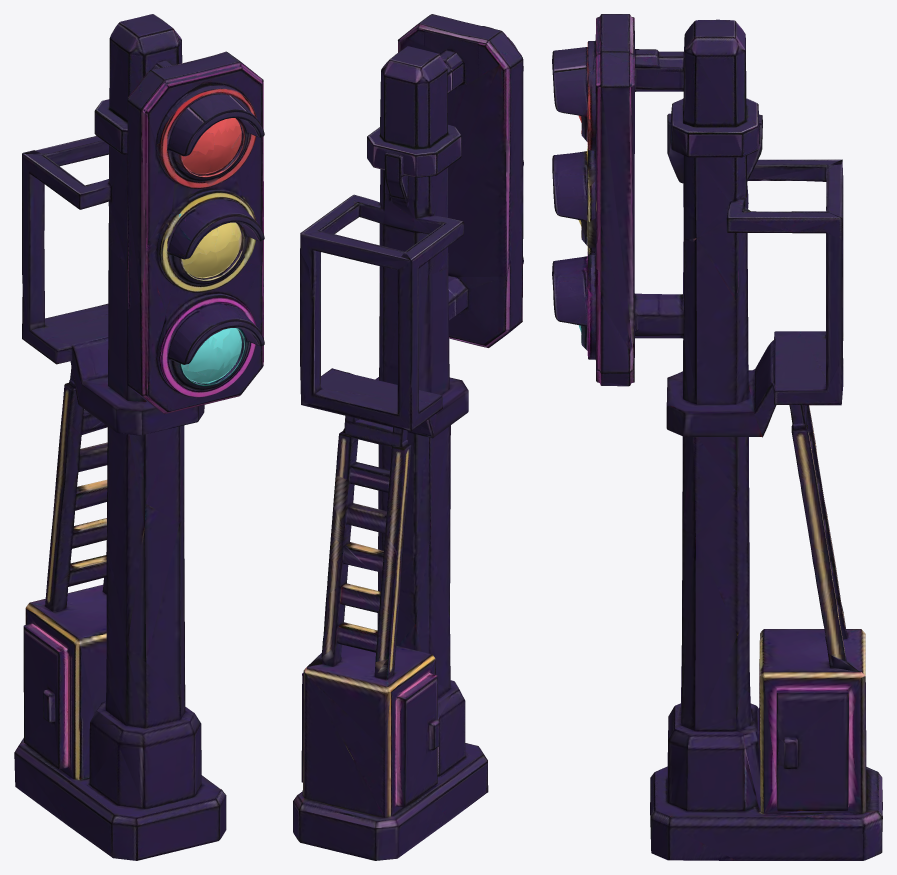
File: prop-signal.glb
3 renders of one model, left to right at view 1: azimuth 30°, elevation 25°; view 2: azimuth 150°, elevation 25°; view 3: azimuth 270°, elevation 25°, orthographic. The views are drawn at different scales.
Parts seen in each view (by area): view 1: output_unwrapped; view 2: output_unwrapped; view 3: output_unwrapped.
Boxes of the visible parts, x1,y1,x2,y2 form: output_unwrapped: (14,14,264,860); output_unwrapped: (293,14,523,860); output_unwrapped: (552,14,882,860).
Size of the model in its own units: 0.3104 by 1.9 by 0.7081.
1 material, 1 textured.
